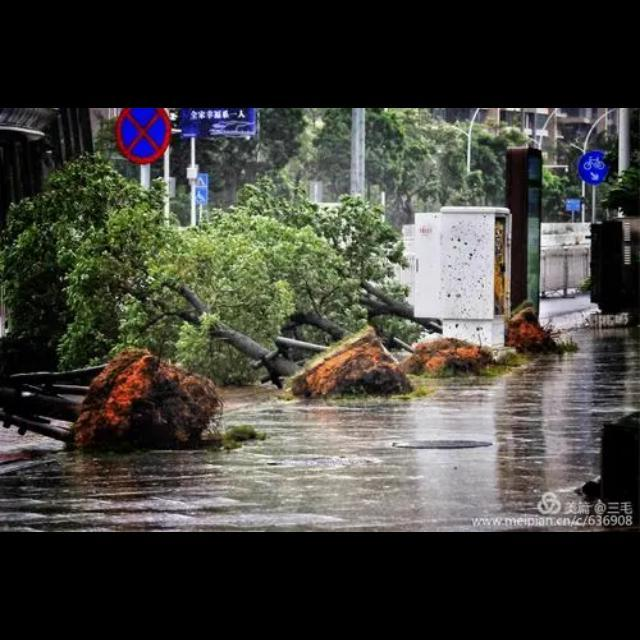fallen_tree: (1, 153, 361, 393), (238, 170, 446, 342), (147, 198, 371, 354), (1, 342, 201, 454)
